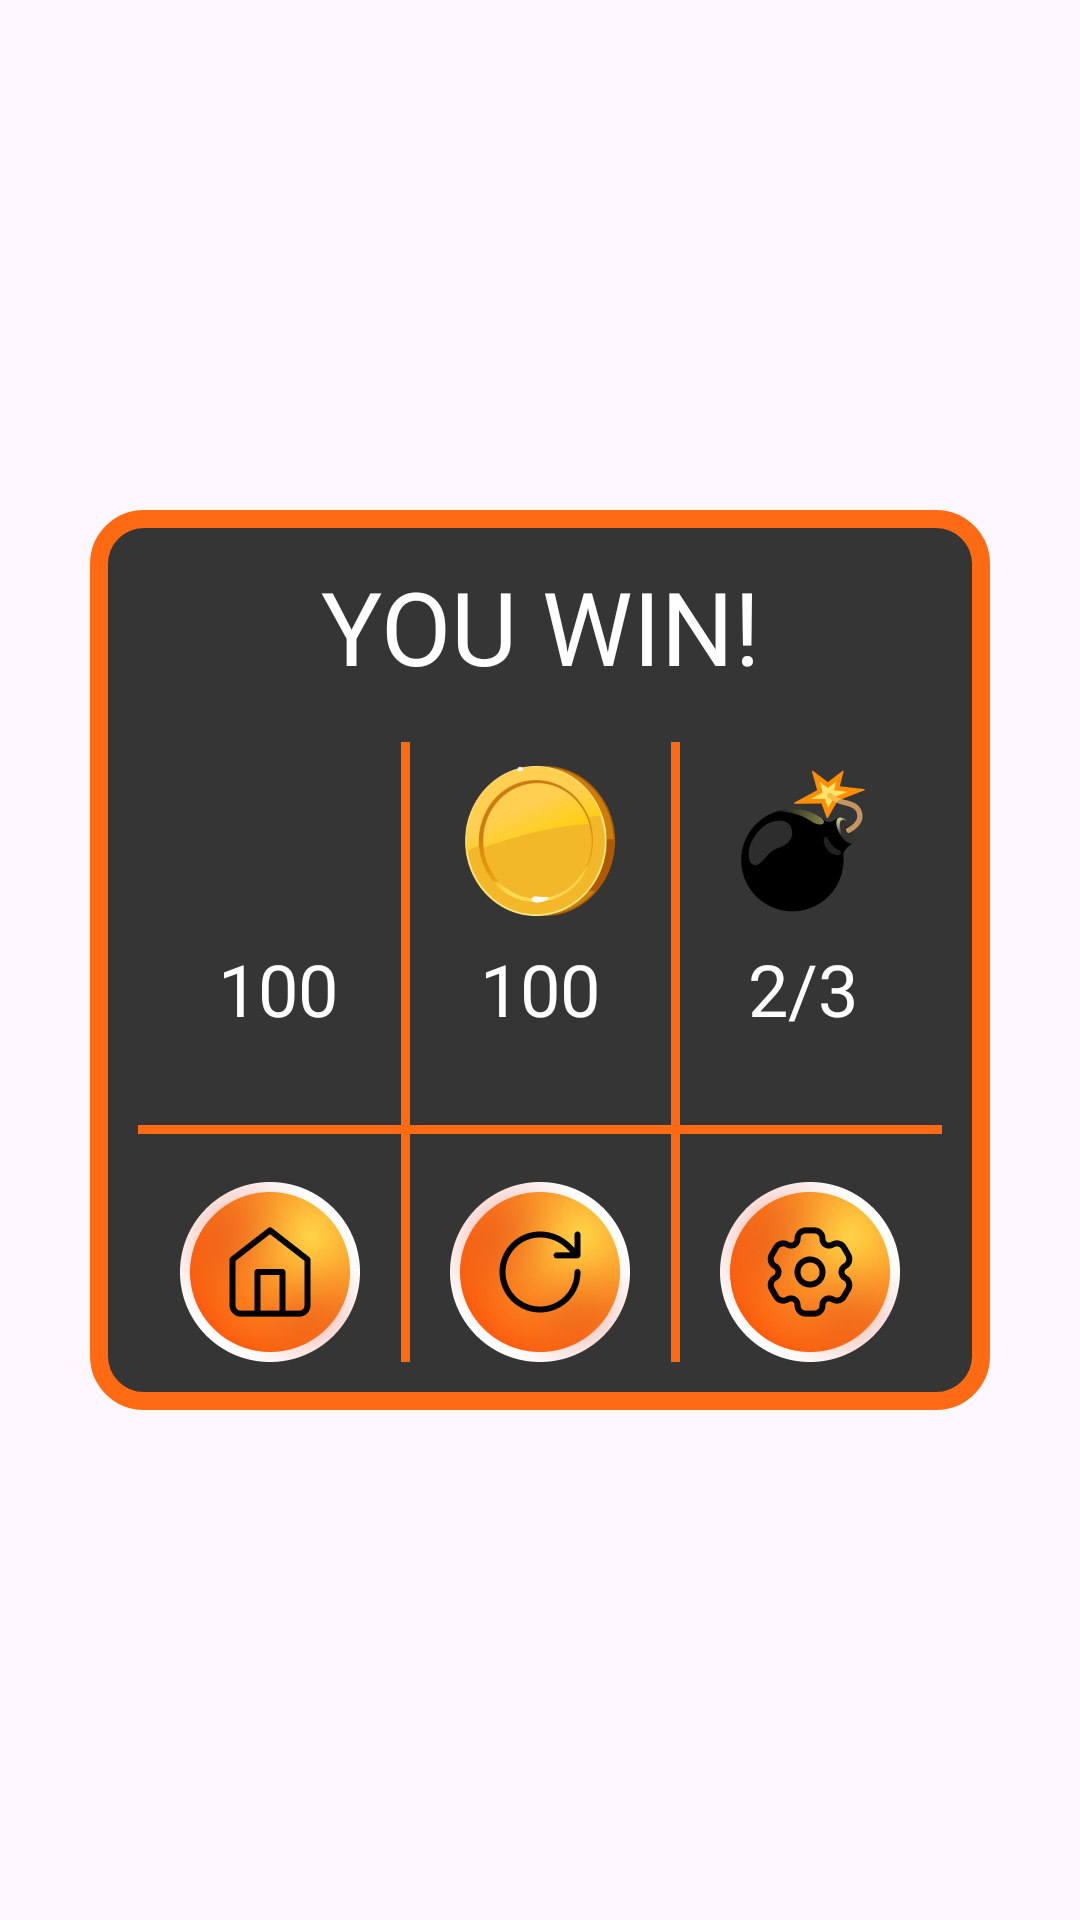

Screen size 1080x1920. Icon name, then its center in pixels as [x,y]:
bomb: [803,840]
home: [270,1272]
money: [540,841]
options: [810,1272]
repeat: [540,1272]
